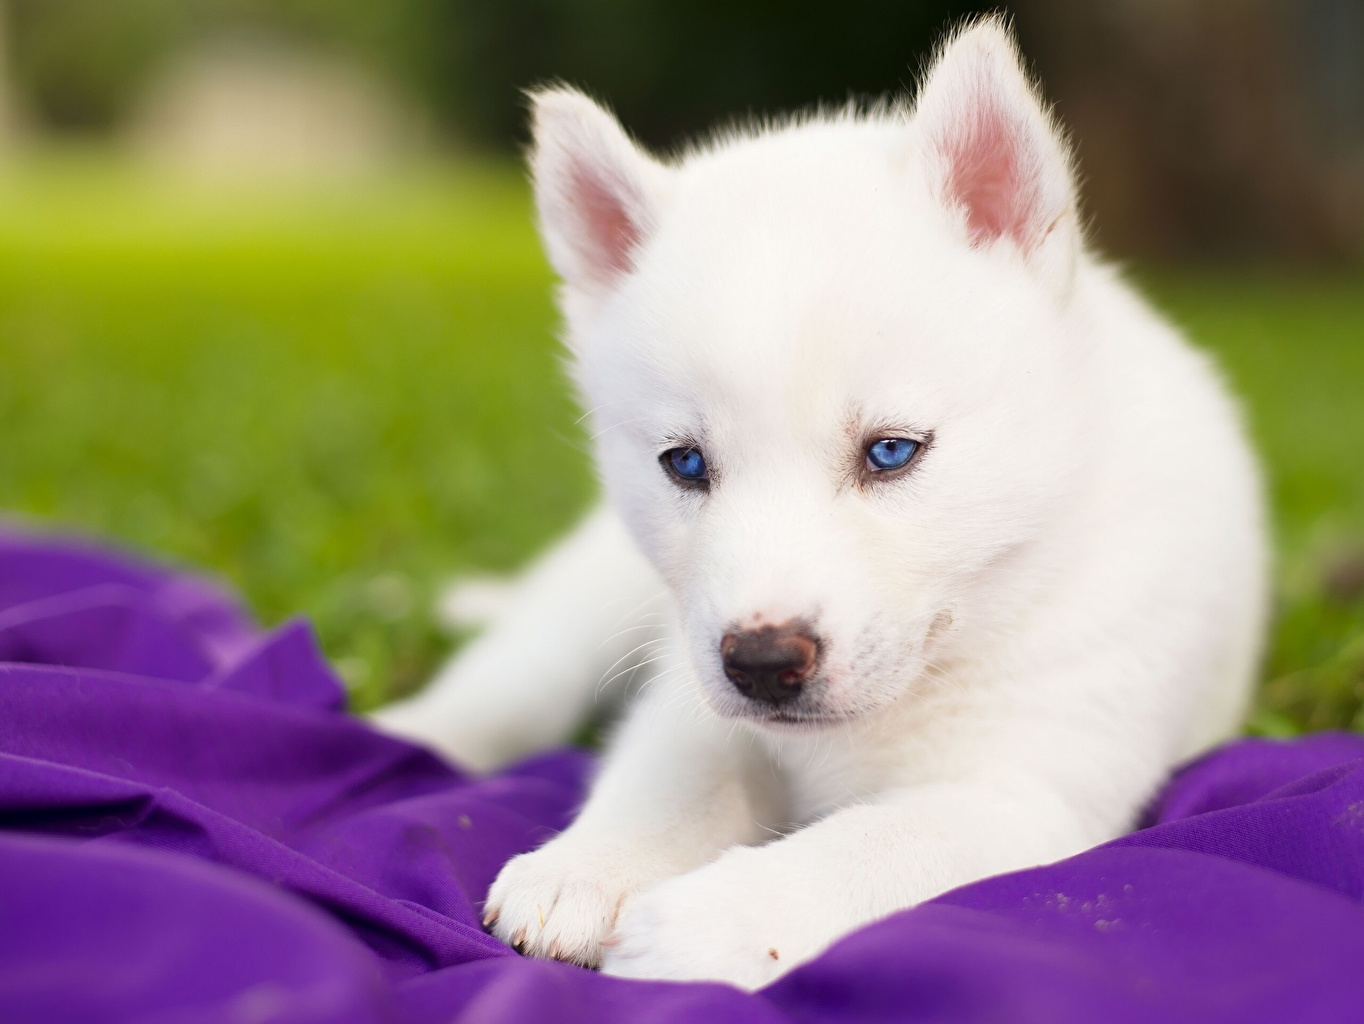husky: (470, 19, 1198, 746)
